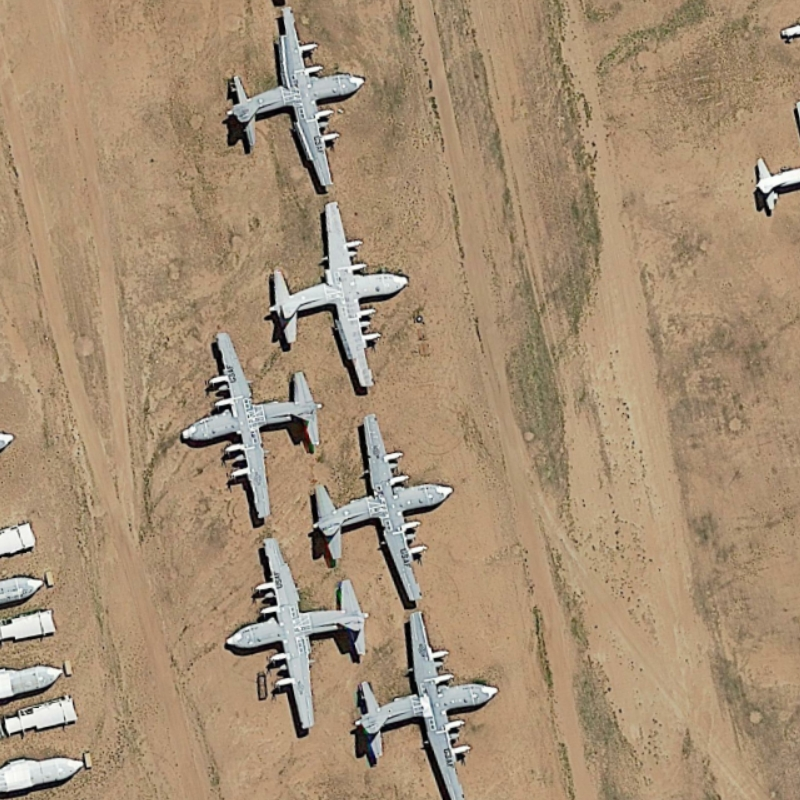A2: (204, 7, 393, 196), (174, 319, 329, 520), (265, 197, 423, 394), (344, 608, 505, 800), (223, 533, 372, 738), (307, 408, 463, 603)
